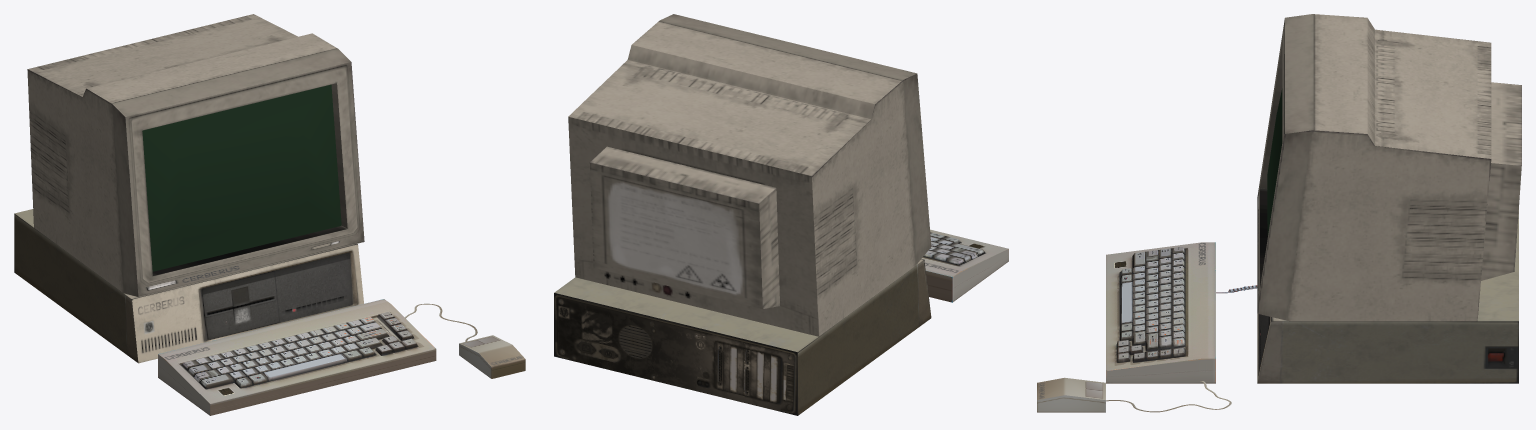
The model's file is Computer.fbx.
The picture shows the model from 3 angles, left to right: view 1: azimuth 30°, elevation 25°; view 2: azimuth 150°, elevation 25°; view 3: azimuth 270°, elevation 25°; orthographic projection. The views are drawn at different scales.
Visible parts, largest first — view 1: Cube.003; view 2: Cube.003; view 3: Cube.003.
Boxes of the visible parts, bbox=[...] form: Cube.003: bbox=[14, 14, 525, 415]; Cube.003: bbox=[554, 14, 1008, 415]; Cube.003: bbox=[1037, 14, 1521, 412].
Size of the model in its own units: 260 by 203 by 352.
